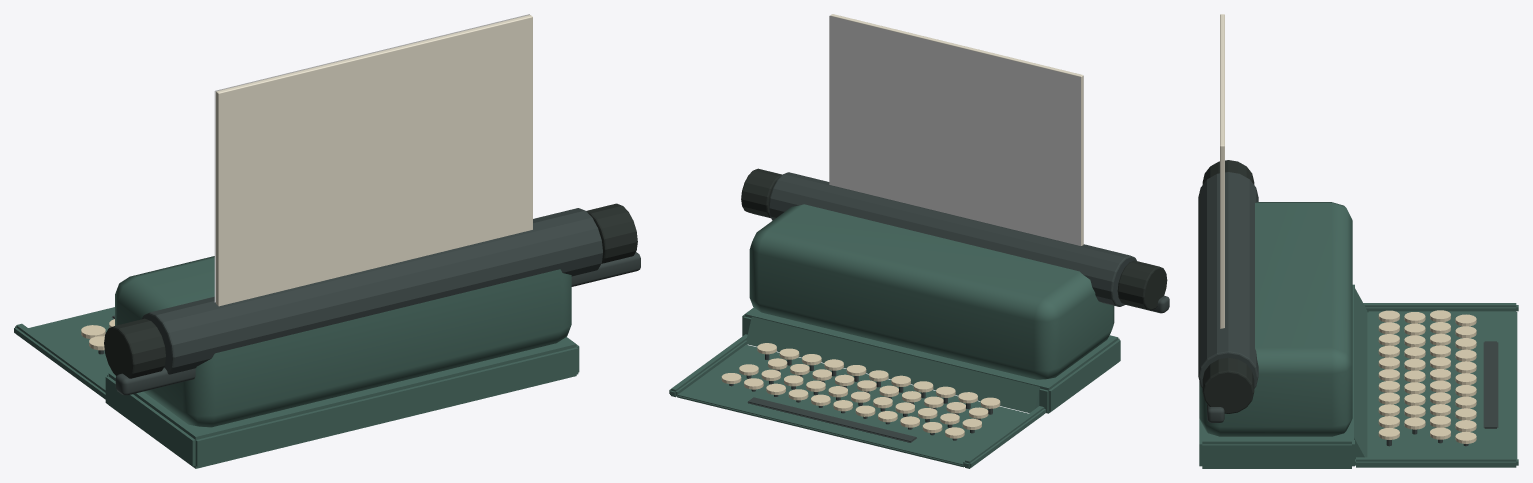
The model's file is typewriter-v01.glb.
3 renders of one model, left to right at view 1: azimuth 30°, elevation 25°; view 2: azimuth 150°, elevation 25°; view 3: azimuth 270°, elevation 25°, orthographic. The views are drawn at different scales.
Visible parts, largest first — view 1: TW2 | paper, TW2 | typewriter housing, TW2 | platen roller, TW2 | base, TW2 | platen knob -0.427, TW2 | keyboard deck, TW2 | carriage rail, TW2 | platen knob 0.427, TW2 | side cheeks, TW2 | text; view 2: TW2 | text, TW2 | typewriter housing, TW2 | keyboard deck, TW2 | platen roller, TW2 | key caps, TW2 | front fascia, TW2 | base, TW2 | platen knob -0.427, TW2 | side cheeks, TW2 | paper, TW2 | space bar, TW2 | platen knob 0.427 (+1 smaller); view 3: TW2 | typewriter housing, TW2 | keyboard deck, TW2 | platen roller, TW2 | key caps, TW2 | base, TW2 | side cheeks, TW2 | platen knob 0.427, TW2 | front fascia, TW2 | paper, TW2 | space bar, TW2 | platen knob -0.427.
Boxes of the visible parts, x1,y1,x2,y2 form: TW2 | paper: [216, 15, 532, 306]; TW2 | typewriter housing: [115, 256, 571, 427]; TW2 | platen roller: [142, 208, 602, 374]; TW2 | base: [105, 337, 579, 468]; TW2 | platen knob -0.427: [104, 318, 165, 378]; TW2 | keyboard deck: [28, 307, 114, 384]; TW2 | carriage rail: [115, 252, 640, 395]; TW2 | platen knob 0.427: [586, 203, 637, 263]; TW2 | side cheeks: [14, 323, 105, 399]; TW2 | text: [214, 14, 529, 302]; TW2 | text: [829, 16, 1080, 245]; TW2 | typewriter housing: [749, 204, 1114, 379]; TW2 | keyboard deck: [676, 344, 1028, 467]; TW2 | platen roller: [769, 172, 1136, 306]; TW2 | key caps: [721, 343, 1000, 438]; TW2 | front fascia: [746, 316, 1039, 412]; TW2 | base: [742, 307, 1120, 413]; TW2 | platen knob -0.427: [1117, 260, 1167, 310]; TW2 | side cheeks: [669, 334, 1045, 468]; TW2 | paper: [830, 14, 1083, 245]; TW2 | space bar: [747, 397, 916, 442]; TW2 | platen knob 0.427: [741, 168, 781, 217]; TW2 | typewriter housing: [1199, 202, 1352, 436]; TW2 | keyboard deck: [1367, 311, 1517, 459]; TW2 | platen roller: [1198, 172, 1258, 388]; TW2 | key caps: [1378, 310, 1476, 443]; TW2 | base: [1199, 284, 1354, 468]; TW2 | side cheeks: [1355, 303, 1518, 467]; TW2 | platen knob 0.427: [1202, 357, 1254, 413]; TW2 | front fascia: [1354, 287, 1367, 459]; TW2 | paper: [1220, 14, 1224, 328]; TW2 | space bar: [1483, 341, 1498, 428]; TW2 | platen knob -0.427: [1202, 160, 1254, 184].
Bounding box in the file's own units: 0.4537 × 0.3007 × 0.2822.
